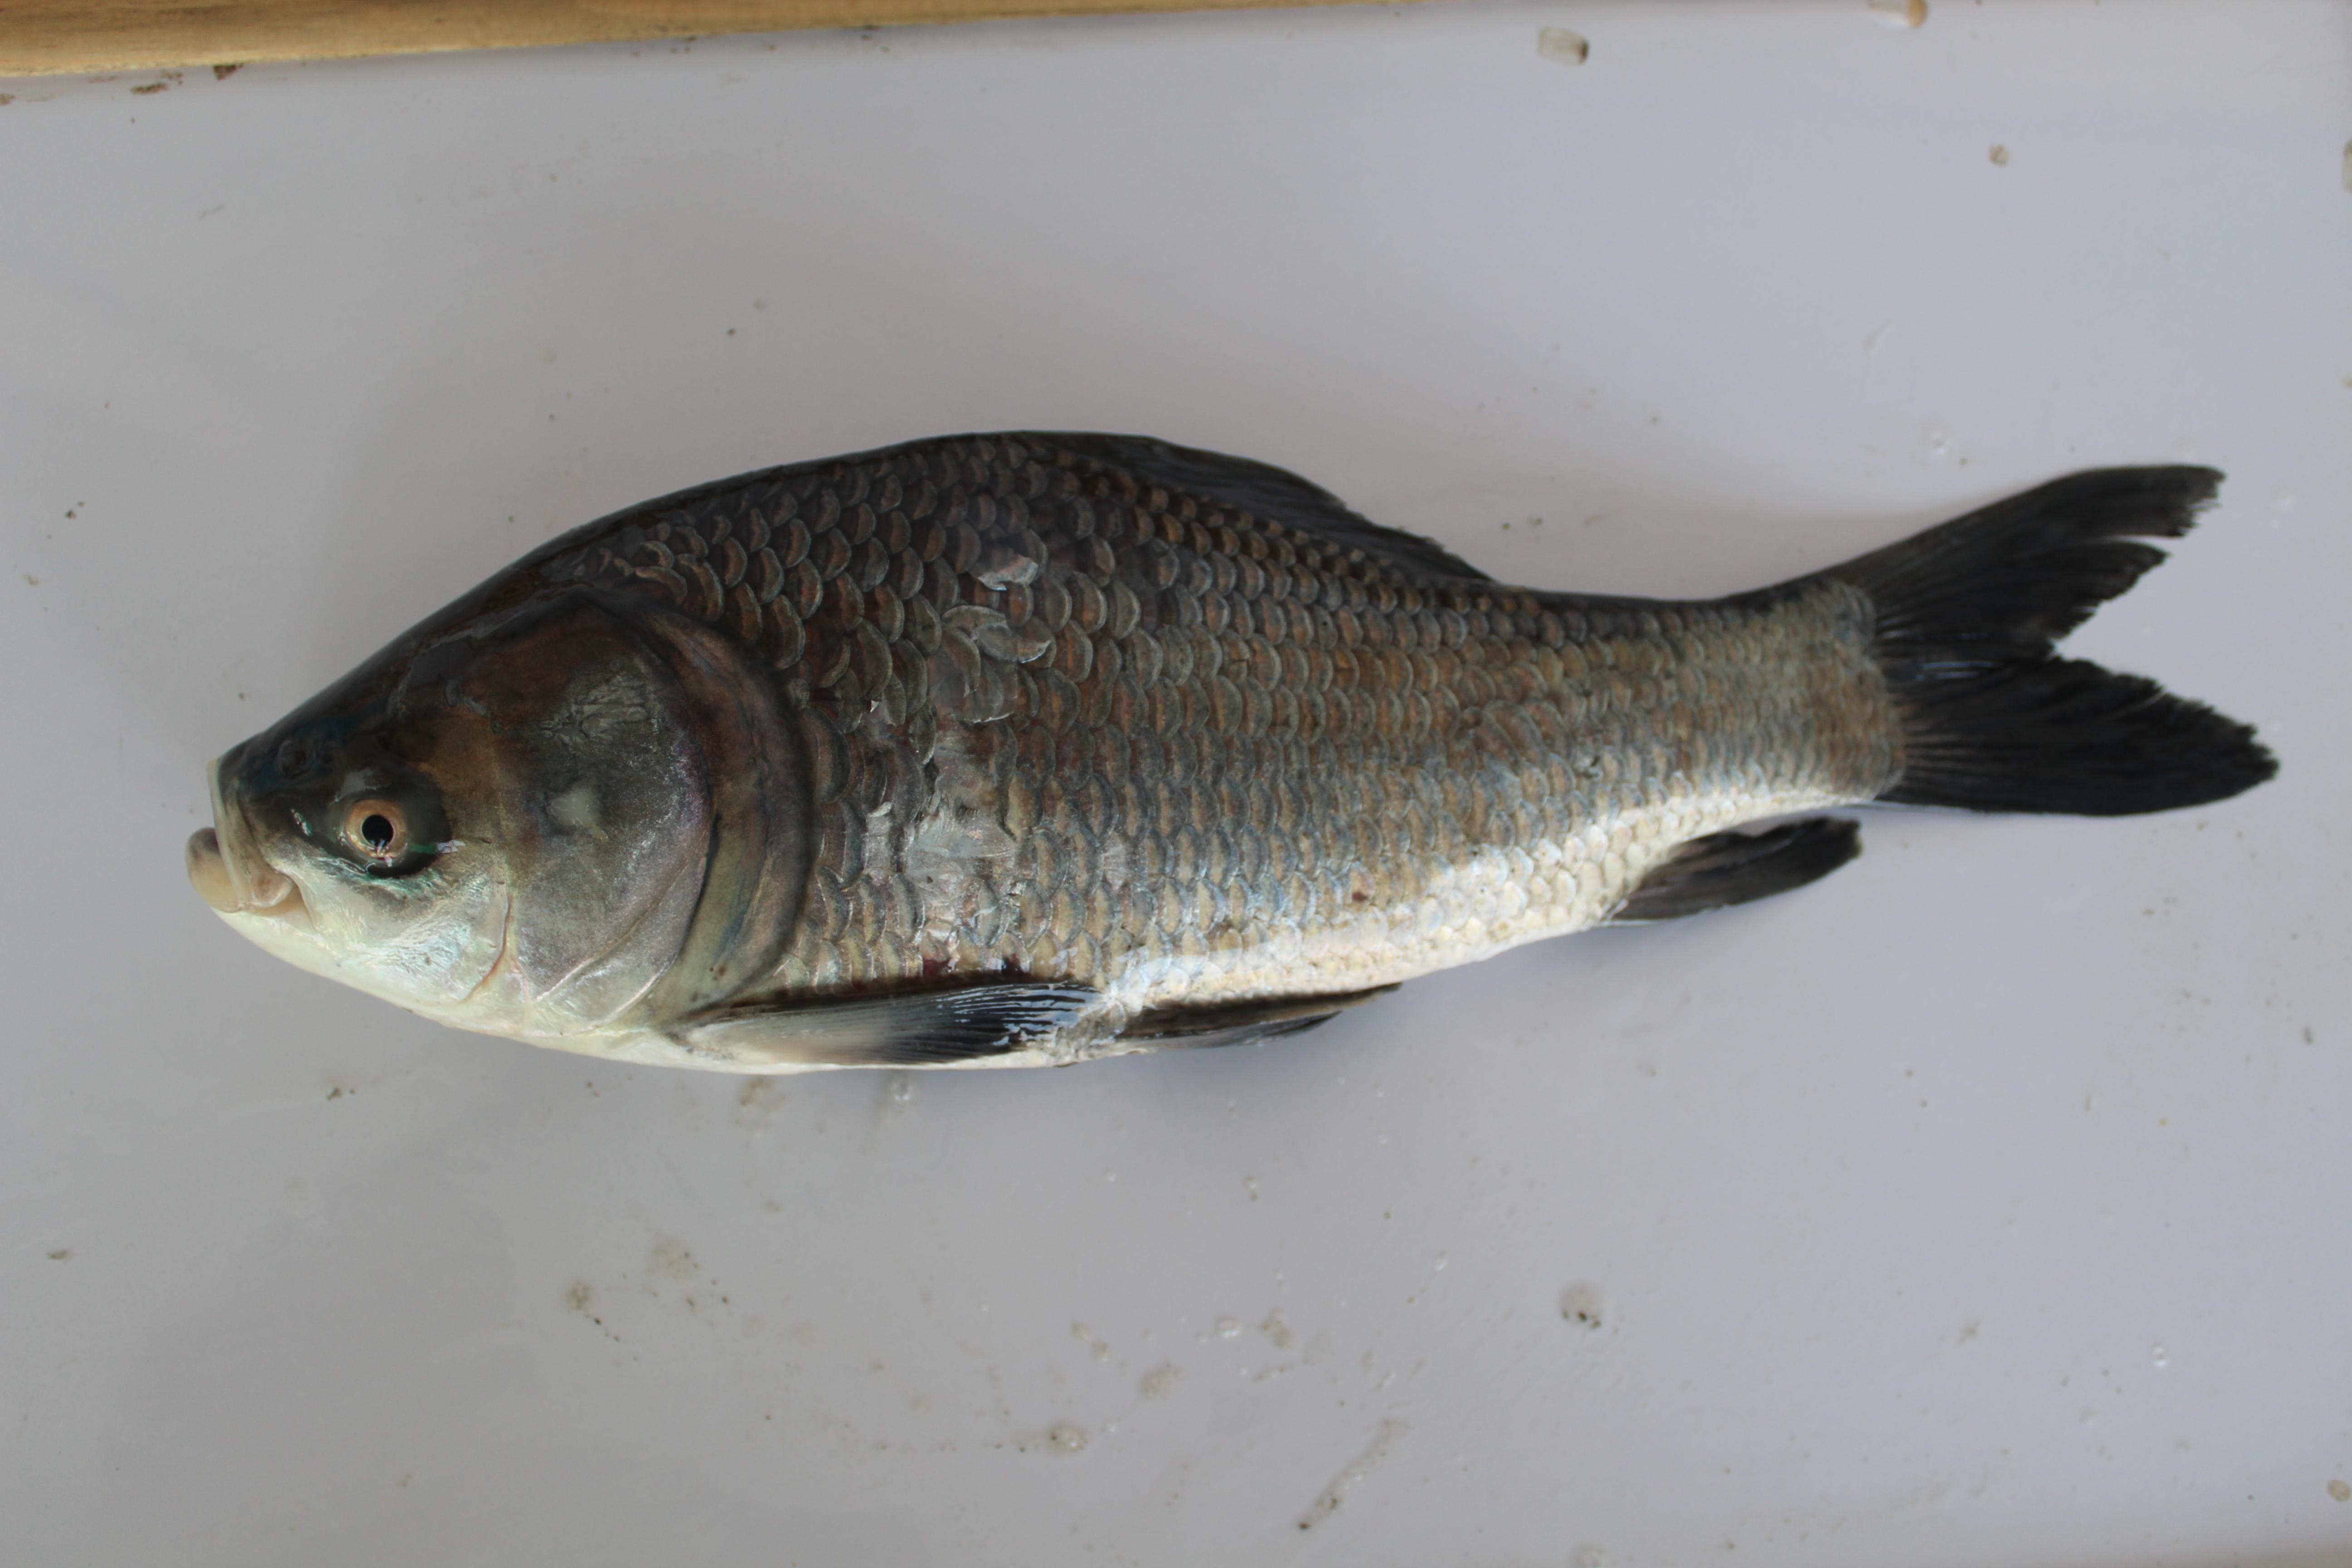Indian Carp: (178, 418, 2301, 1094)
